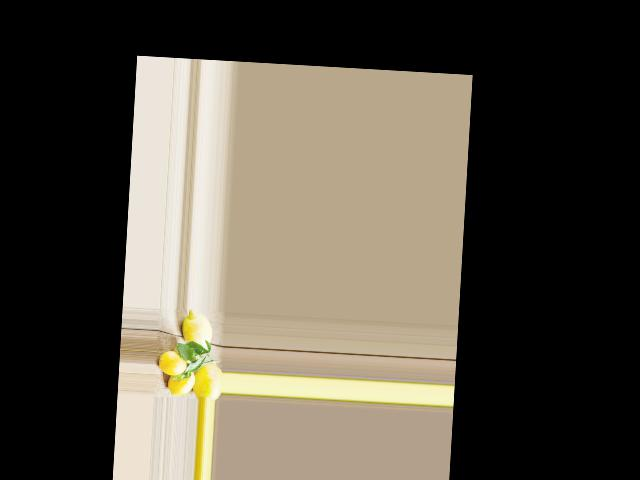lemon: (176, 309, 214, 357)
